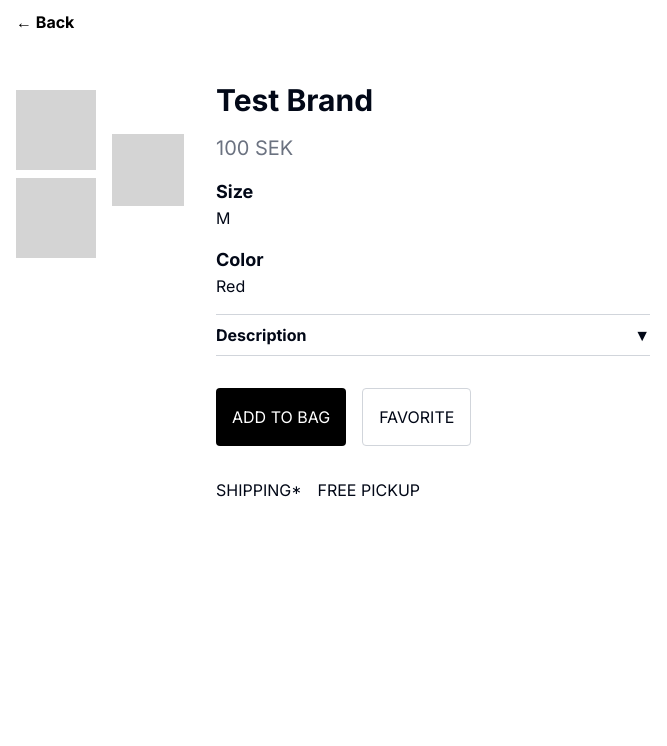
Scenario: toggles the dropdown content
The width and height of the screenshot is (667, 746).
Check: the text "Size Waist:" is not shown
Click the button "Description ▼": coordinates (261, 335) [216,323,650,347]
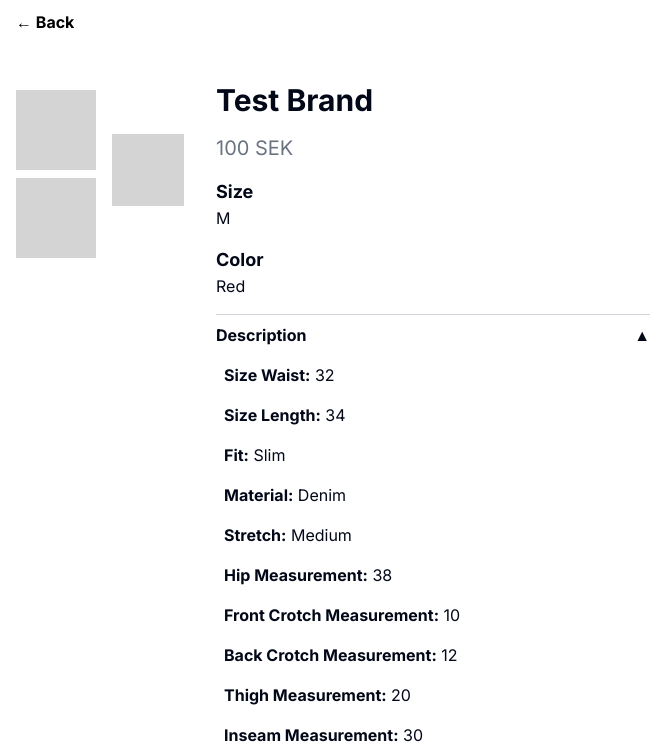
Check: the text "Size Waist:" is shown, box [224,365,310,385]
Click the button "Description ▲": coordinates (261, 335) [216,323,650,347]
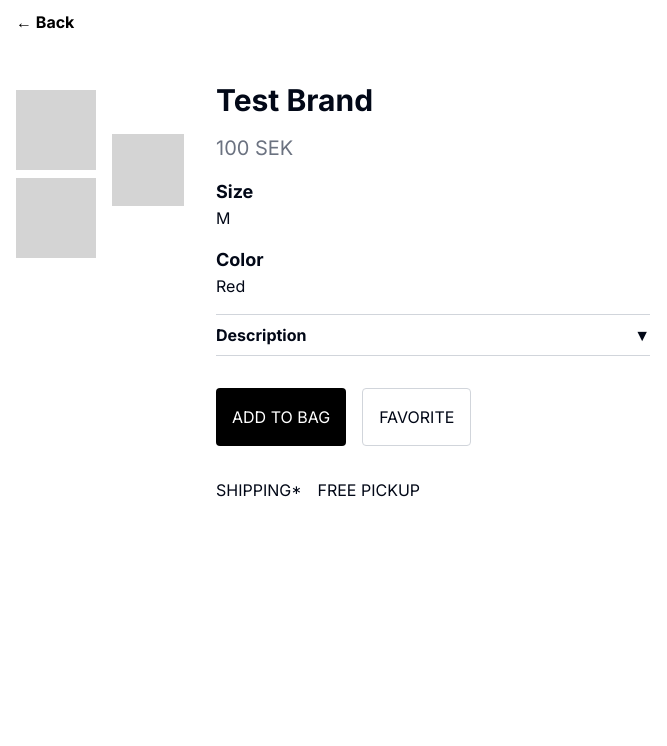
Check: the text "Size Waist:" is gone
